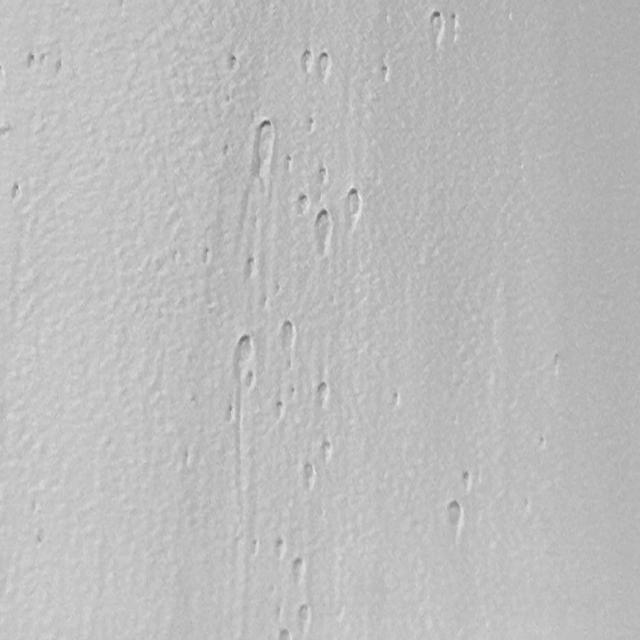pin holes: (252, 121, 276, 163), (310, 210, 332, 250), (422, 9, 446, 45), (233, 334, 255, 371), (343, 188, 365, 223), (444, 498, 466, 531), (276, 318, 296, 353), (294, 601, 314, 632), (313, 51, 333, 81), (446, 12, 464, 42), (290, 556, 309, 584), (300, 462, 318, 491), (312, 380, 330, 407), (300, 49, 317, 77), (293, 193, 311, 218), (32, 527, 51, 549), (318, 439, 335, 462), (273, 538, 289, 561), (242, 254, 258, 277), (222, 403, 238, 425), (10, 181, 25, 204), (243, 368, 256, 392), (247, 535, 260, 559), (26, 51, 39, 73), (0, 63, 11, 89), (461, 470, 475, 490), (273, 398, 286, 419), (201, 247, 214, 267), (537, 433, 550, 452), (378, 62, 391, 80), (316, 166, 328, 185), (306, 116, 318, 135), (275, 626, 291, 640), (391, 392, 404, 409), (284, 155, 296, 173), (228, 55, 240, 72), (54, 58, 66, 75), (289, 385, 300, 401)
